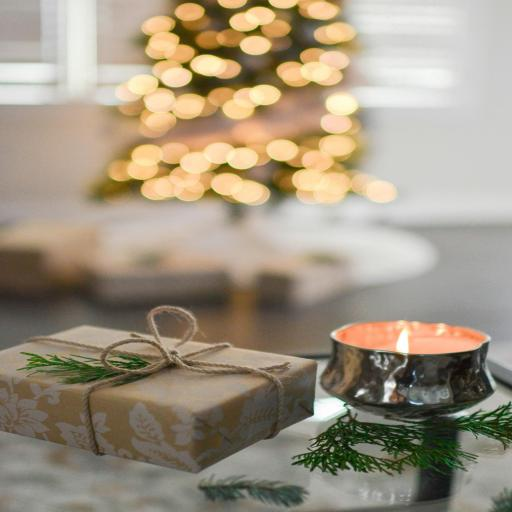candlelight: (326, 294, 478, 397)
